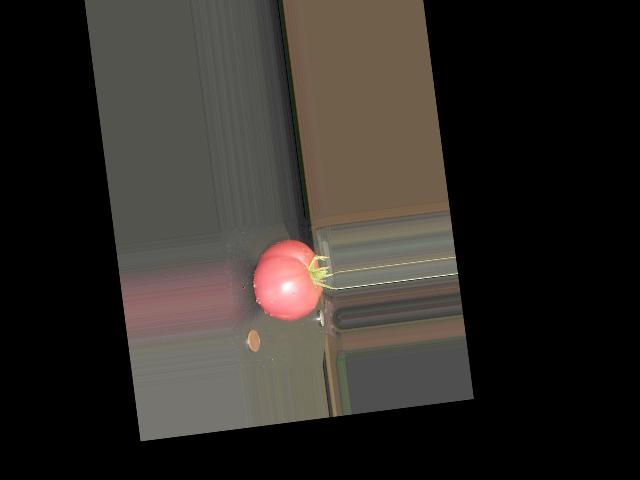tomato: (247, 235, 326, 324)
